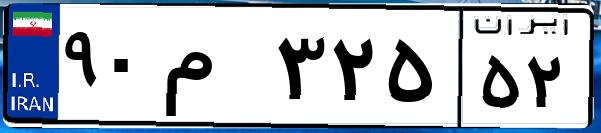0: (110, 28, 158, 98)
2: (330, 28, 385, 110), (525, 38, 570, 115)
3: (270, 28, 330, 110)
5: (385, 28, 445, 110), (475, 38, 525, 113)
9: (57, 26, 110, 100)
م: (158, 20, 270, 120)
